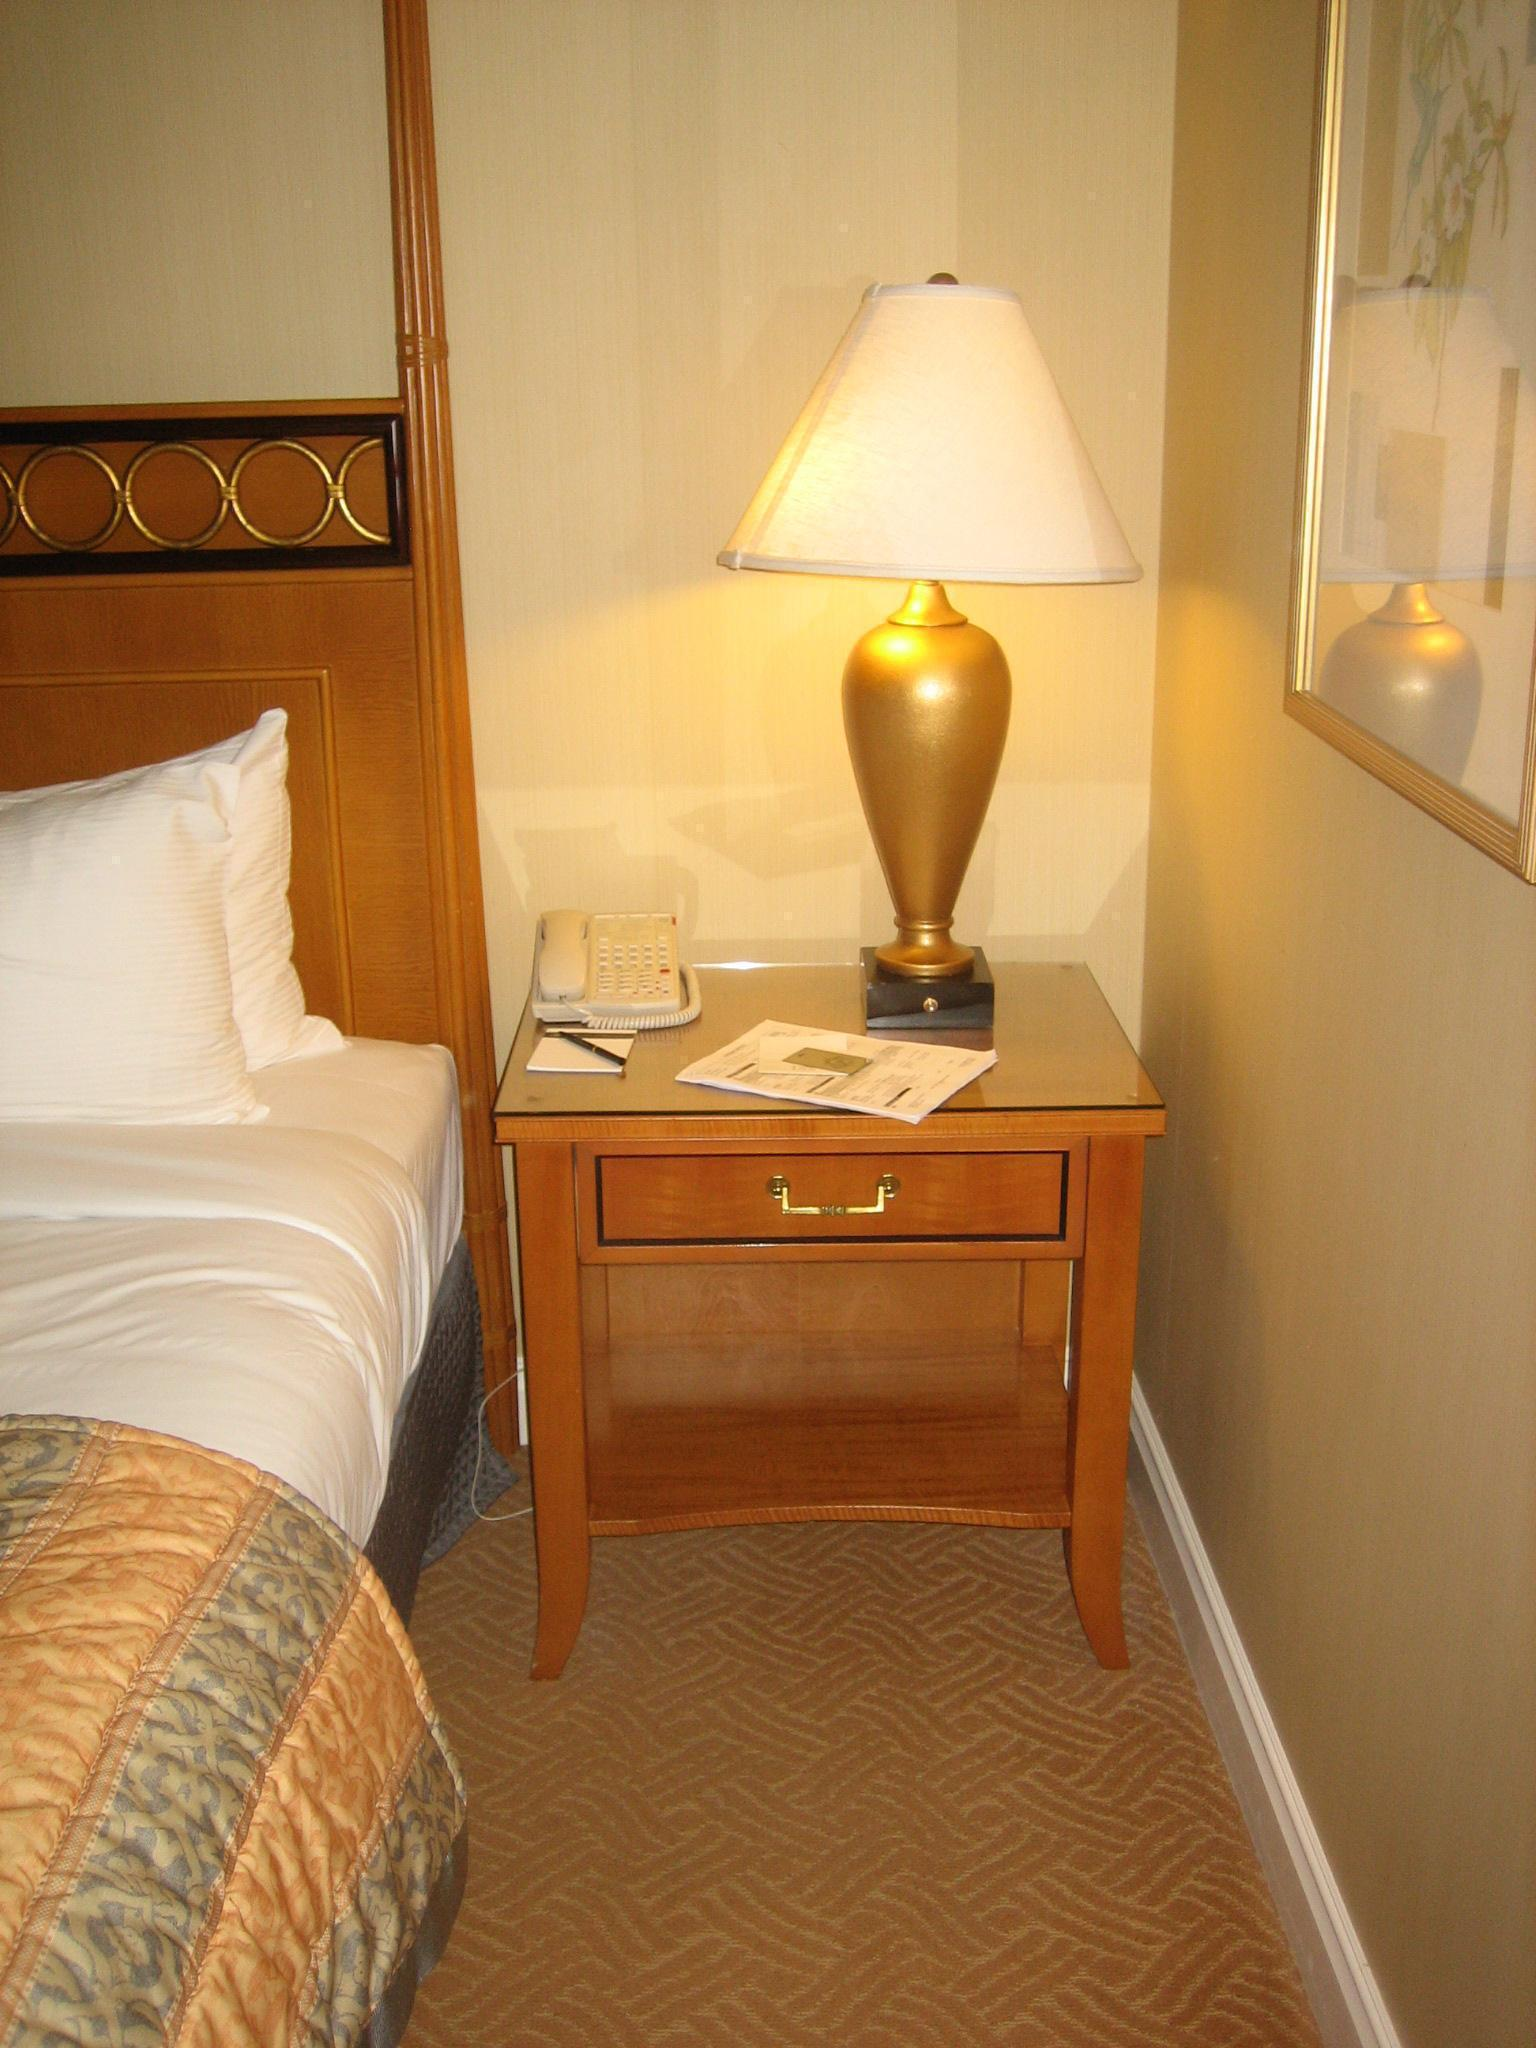Cama: (18, 414, 442, 2029)
